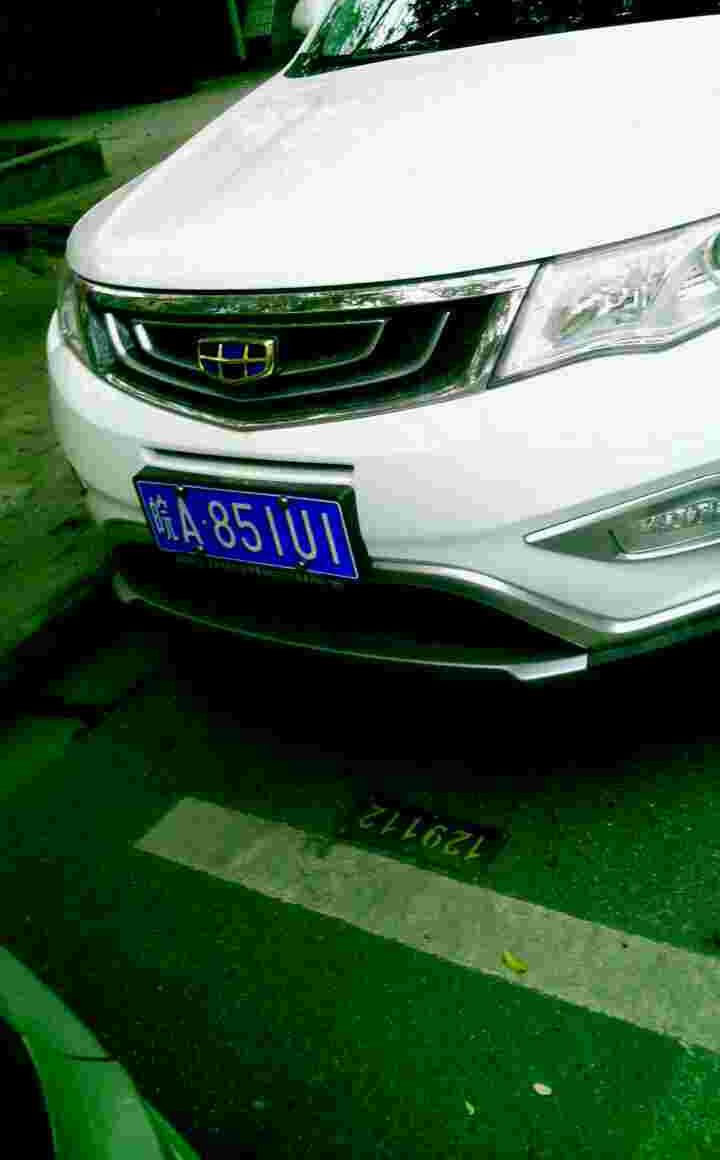license_plate: (135, 480, 358, 584)
